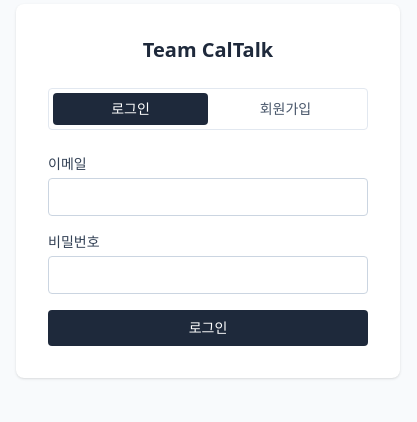
Scenario: 인증 화면 (FE-04 / UC-01 / SC-01) › 로그인 실패(401) 시 서버 에러 메시지를 표시한다
This screenshot has width=417, height=422.
Type "hong@example.com" into the field labelled "이메일" at (208, 197), box [48,178,368,216]
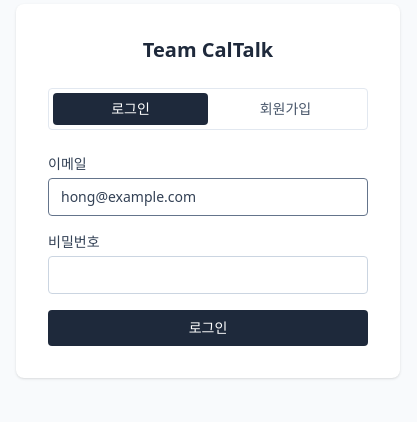
Type "wrong" into the password field labelled "비밀번호" at (208, 275), box [48,256,368,294]
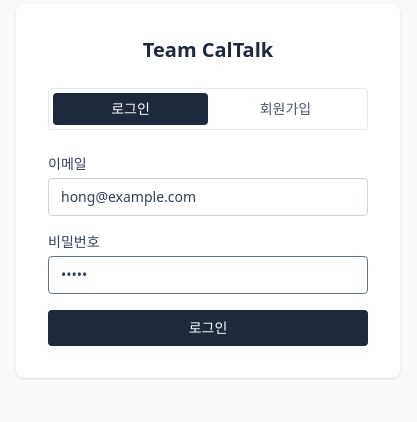
Click the button "로그인" at (208, 328), box [48,310,368,346]
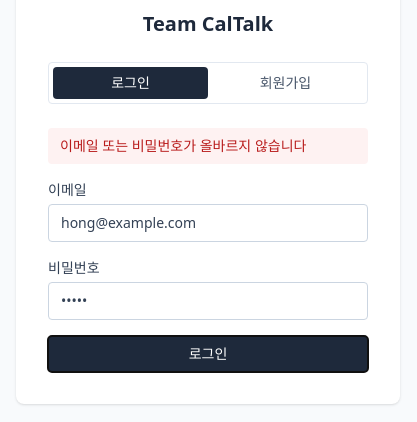
Expected: the message shows "올바르지 않습니다", [60,136,306,155]
